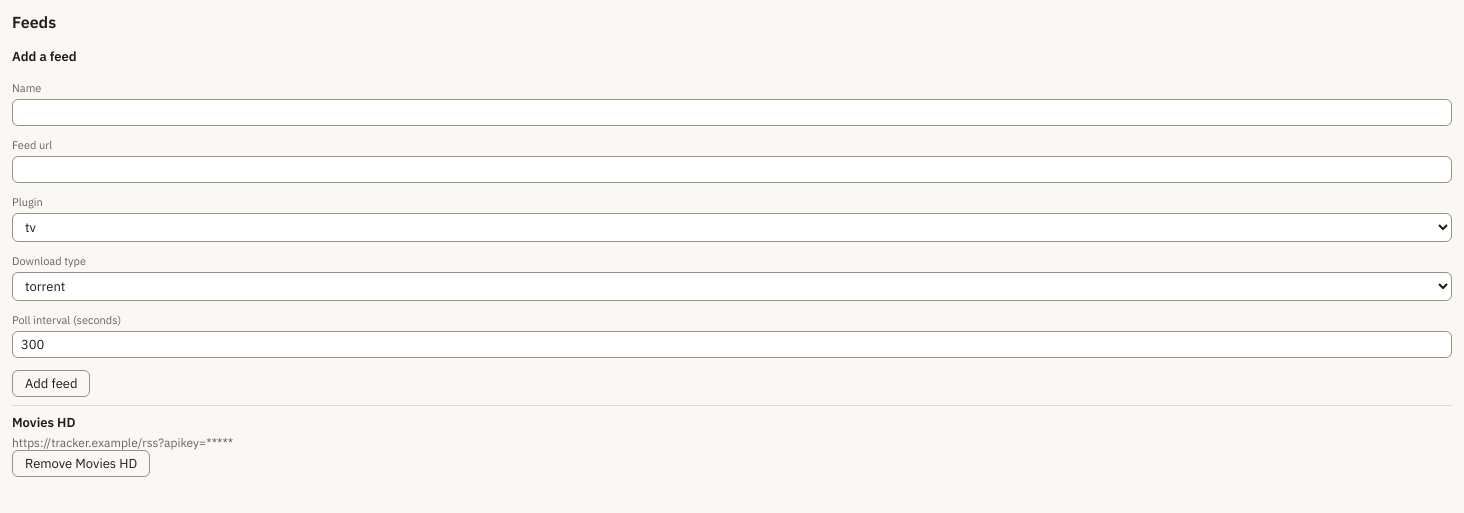
Test: removing a feed that produced releases says it was disabled, and why
Click the button "Remove Movies HD": [81, 464] box [12, 450, 150, 477]
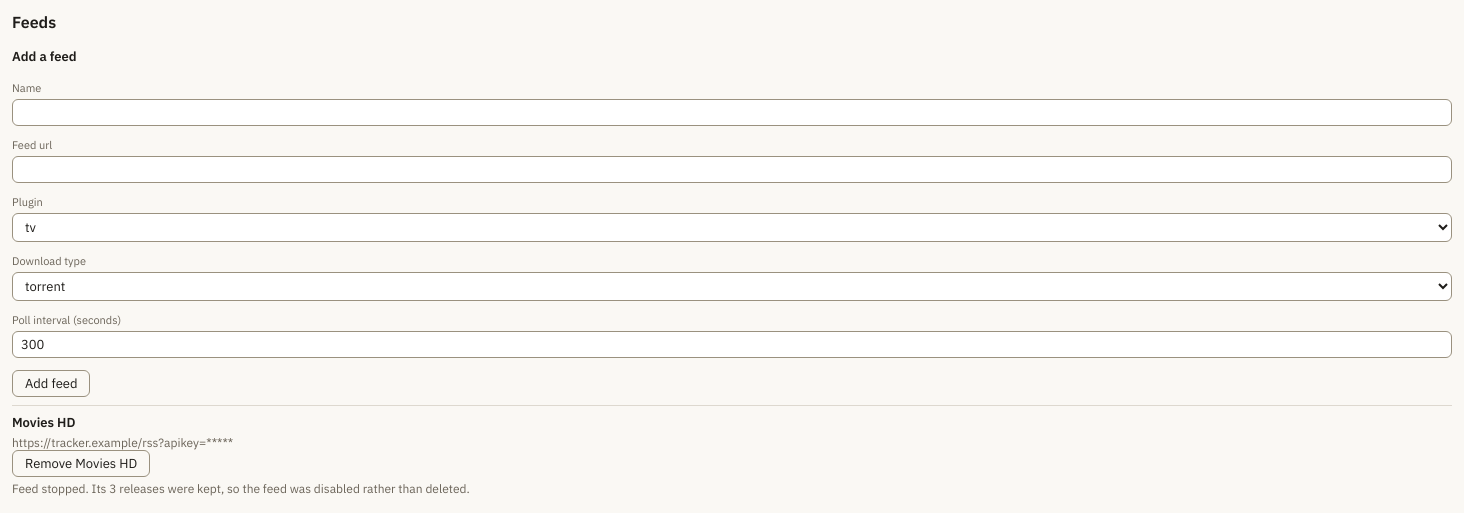
Expected: the text "3 releases were kept, so the feed was disabled rather than deleted" is shown, [12, 481, 470, 496]
